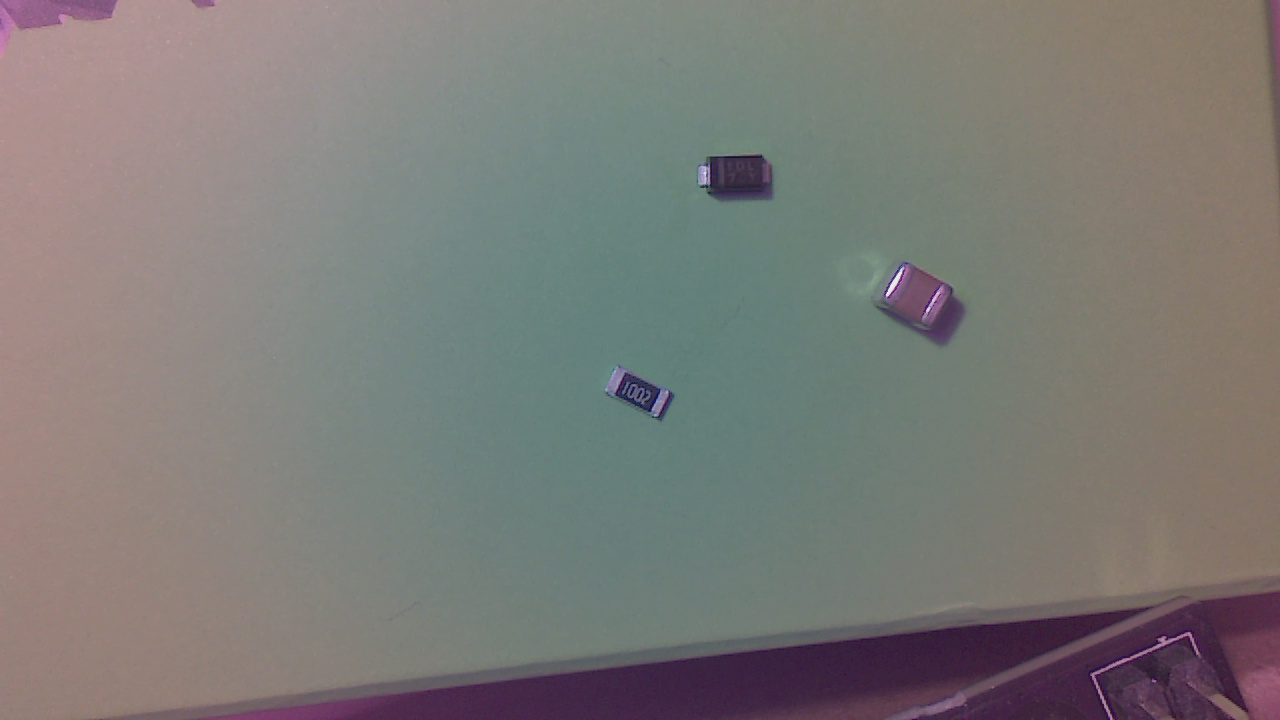Condensator: (882, 267, 960, 344)
Diode: (702, 158, 781, 201)
Resistor: (610, 372, 678, 422)
